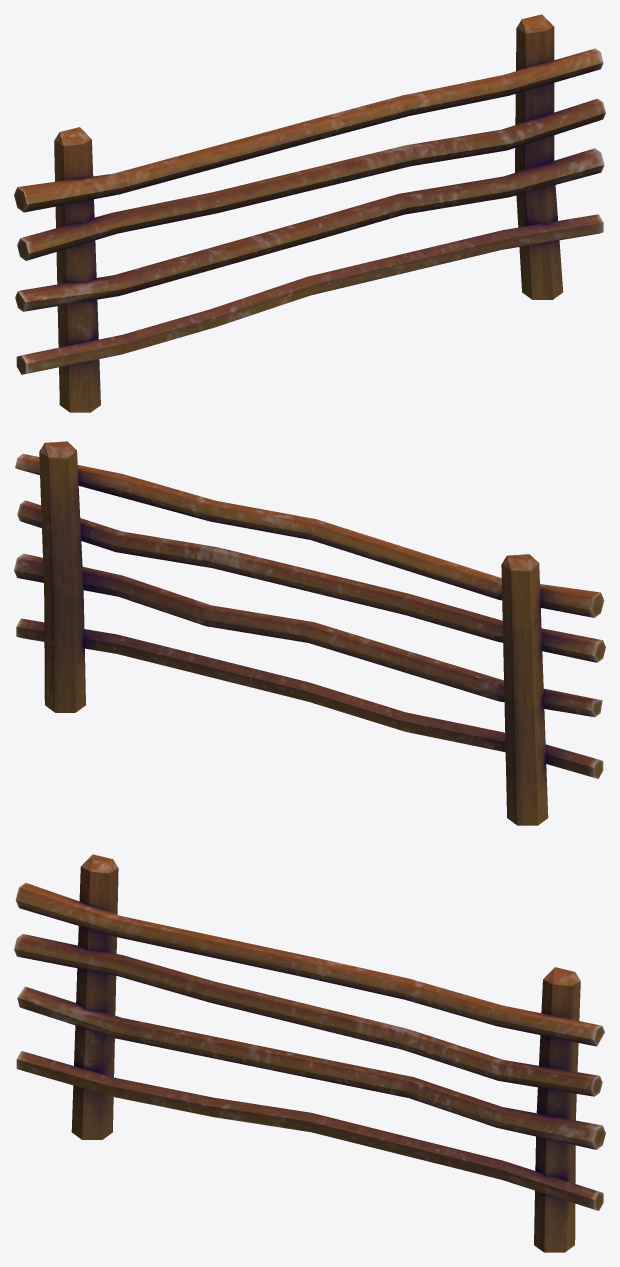
File: Fence1.fbx
3 views of the same model, one above another, from view 1: azimuth 30°, elevation 25°; view 2: azimuth 150°, elevation 25°; view 3: azimuth 330°, elevation 25° (orthographic).
Parts seen in each view (by area): view 1: EA03_Fence_Beam_01b_LOD0; view 2: EA03_Fence_Beam_01b_LOD0; view 3: EA03_Fence_Beam_01b_LOD0.
Boxes of the visible parts, x1,y1,x2,y2 form: EA03_Fence_Beam_01b_LOD0: (14, 14, 605, 412); EA03_Fence_Beam_01b_LOD0: (14, 441, 605, 825); EA03_Fence_Beam_01b_LOD0: (14, 854, 605, 1252).
Size of the model in its own units: 4.1 by 0.3891 by 1.82.
Materials: 1 (1 with a texture image).
